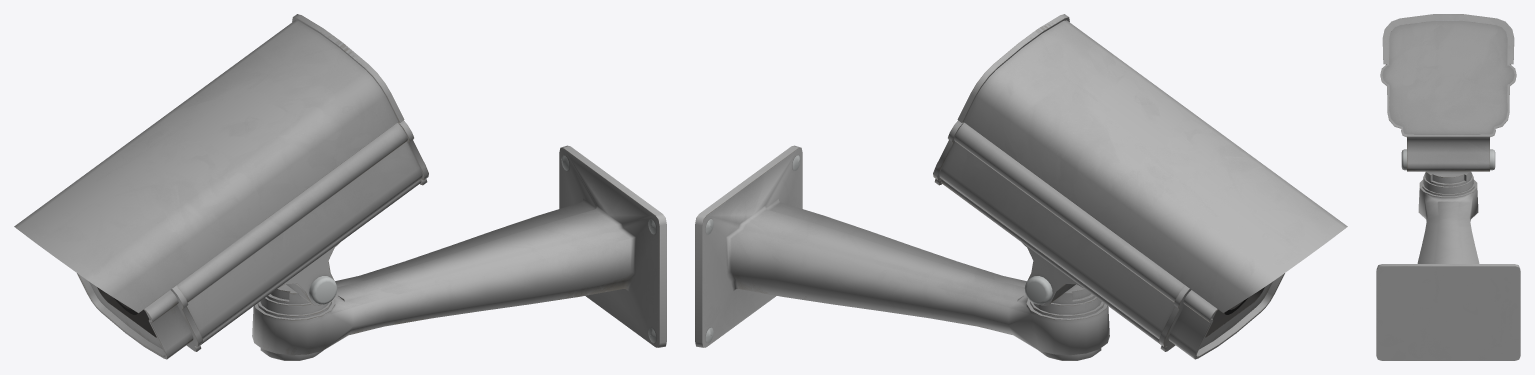
Rendered from SM_Surveillance_Camera.fbx.
3 renders of one model, left to right at view 1: azimuth 30°, elevation 25°; view 2: azimuth 150°, elevation 25°; view 3: azimuth 270°, elevation 25°, orthographic. The views are drawn at different scales.
Visible parts, largest first — view 1: SM_Surveillance_Camera_LOD0; view 2: SM_Surveillance_Camera_LOD0; view 3: SM_Surveillance_Camera_LOD0.
Boxes of the visible parts, x1,y1,x2,y2 form: SM_Surveillance_Camera_LOD0: (14,14,666,360); SM_Surveillance_Camera_LOD0: (695,14,1347,360); SM_Surveillance_Camera_LOD0: (1376,14,1520,360).
Bounding box in the file's own units: 31.35 × 9.59 × 18.15.
